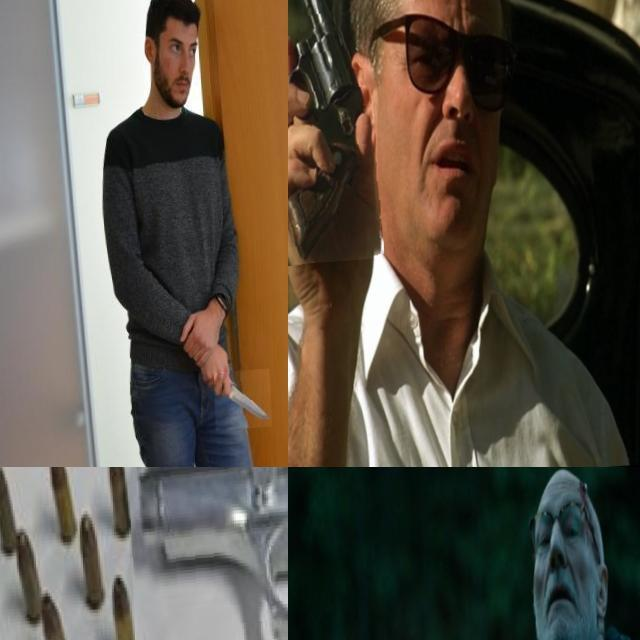-: (210, 375, 268, 436)
gun-knife-thesis - v11 Yolov5 augmented: (126, 467, 288, 640), (288, 0, 377, 267)
